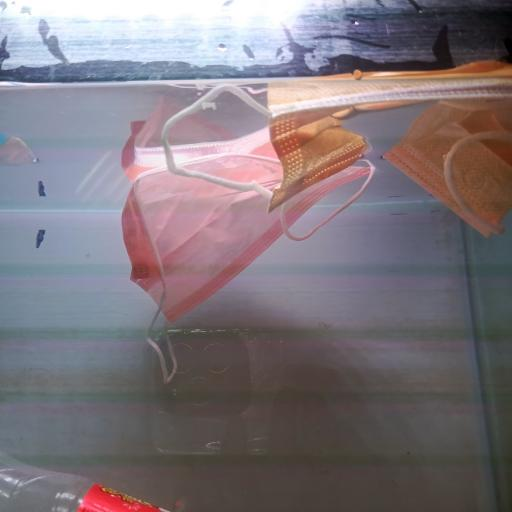mask: (167, 80, 512, 248), (115, 136, 363, 360)
plastic_bottle: (2, 458, 184, 512)
